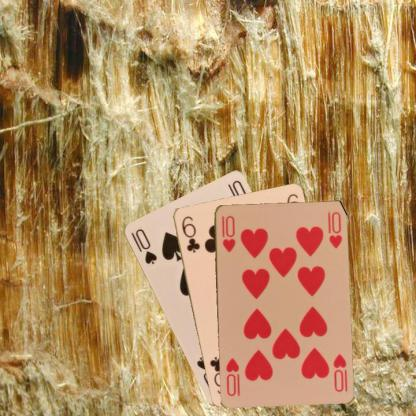10h: (330, 351, 348, 393), (219, 213, 236, 253)
10s: (128, 226, 158, 266)
6c: (179, 213, 201, 254)
